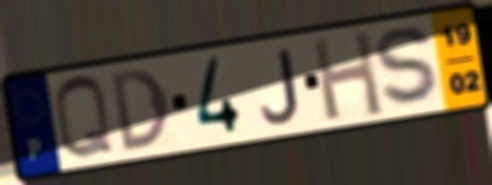4: (193, 53, 245, 139)
D: (107, 65, 173, 155)
H: (308, 26, 387, 124)
J: (258, 46, 303, 126)
Q: (51, 73, 119, 164)
S: (371, 24, 447, 110)
